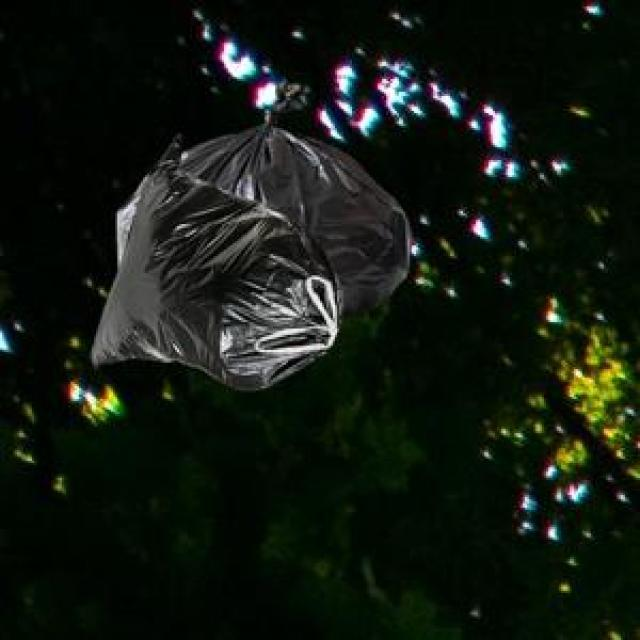Trashbag: (81, 129, 342, 401)
